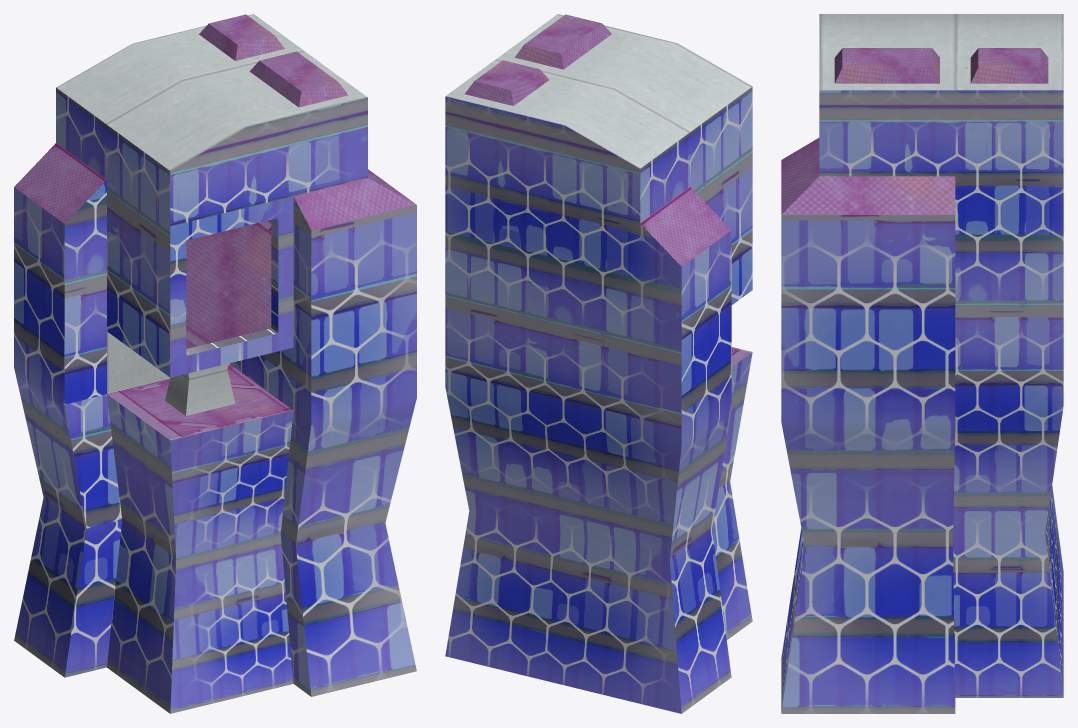
The model's file is BeerGlassBuilding.fbx.
The picture shows the model from 3 angles, left to right: view 1: azimuth 30°, elevation 25°; view 2: azimuth 150°, elevation 25°; view 3: azimuth 270°, elevation 25°; orthographic projection. The views are drawn at different scales.
Visible parts, largest first — view 1: BeerGlassBuilding; view 2: BeerGlassBuilding; view 3: BeerGlassBuilding.
Boxes of the visible parts, box(x1,y1,x2,y2) form: BeerGlassBuilding: box(14, 14, 416, 713); BeerGlassBuilding: box(445, 14, 752, 713); BeerGlassBuilding: box(781, 14, 1063, 713).
Bounding box in the file's own units: 91.61 × 188 × 77.37.
